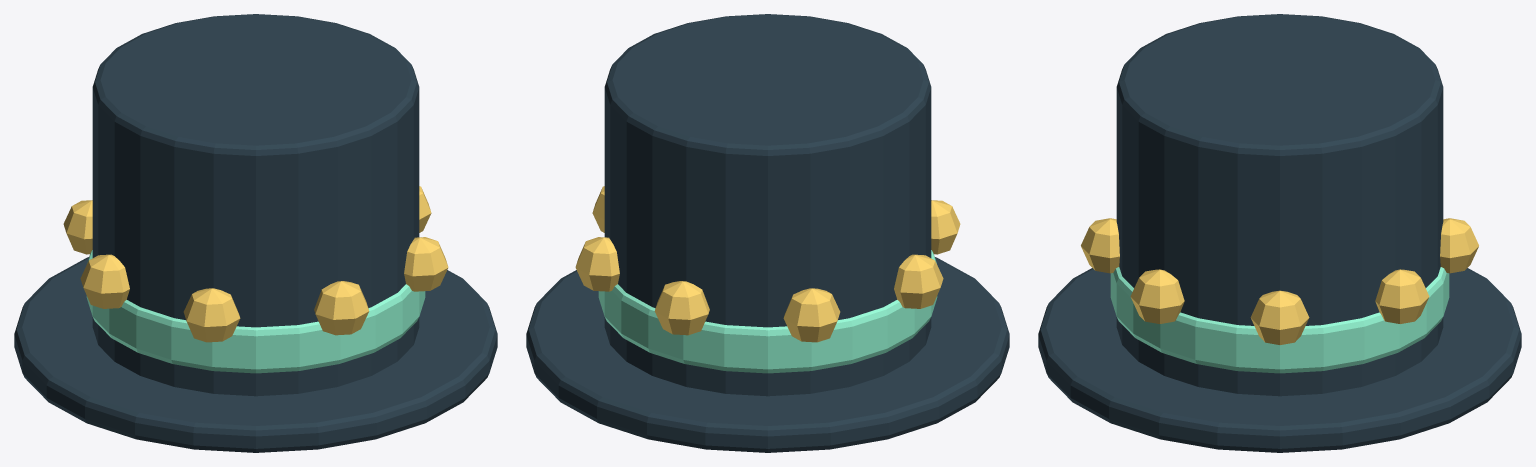
Rendered from hat_clockwork.glb.
3 views of the same model, side by side, from view 1: azimuth 30°, elevation 25°; view 2: azimuth 150°, elevation 25°; view 3: azimuth 270°, elevation 25° (orthographic).
Visible parts, largest first — view 1: Clockwork crown, Clockwork brim, Mint ribbon, Sphere.005, Sphere.006, Sphere.004, Sphere.007, Sphere.003; view 2: Clockwork crown, Clockwork brim, Mint ribbon, Sphere.003, Sphere.002, Sphere.004, Sphere.001, Sphere.005; view 3: Clockwork crown, Clockwork brim, Mint ribbon, Sphere, Sphere.001, Sphere.007, Sphere.002, Sphere.006.
Part boxes in pixels (x1,y1,x2,y2): Clockwork crown: (92,14,419,396); Clockwork brim: (14,257,497,452); Mint ribbon: (86,250,425,373); Sphere.005: (183,288,240,342); Sphere.006: (314,281,369,335); Sphere.004: (80,254,129,308); Sphere.007: (404,237,448,291); Sphere.003: (63,200,92,254); Clockwork crown: (604,14,931,396); Clockwork brim: (526,257,1009,452); Mint ribbon: (598,250,937,373); Sphere.003: (783,288,840,342); Sphere.002: (654,281,709,335); Sphere.004: (894,254,943,308); Sphere.001: (575,237,619,291); Sphere.005: (931,200,960,254); Clockwork crown: (1116,14,1443,396); Clockwork brim: (1038,268,1521,452); Mint ribbon: (1110,267,1449,373); Sphere: (1250,290,1309,344); Sphere.001: (1375,269,1429,323); Sphere.007: (1130,269,1184,323); Sphere.002: (1440,218,1478,273); Sphere.006: (1081,218,1119,273).
Size of the model in its own units: 0.74 by 0.4625 by 0.74.
